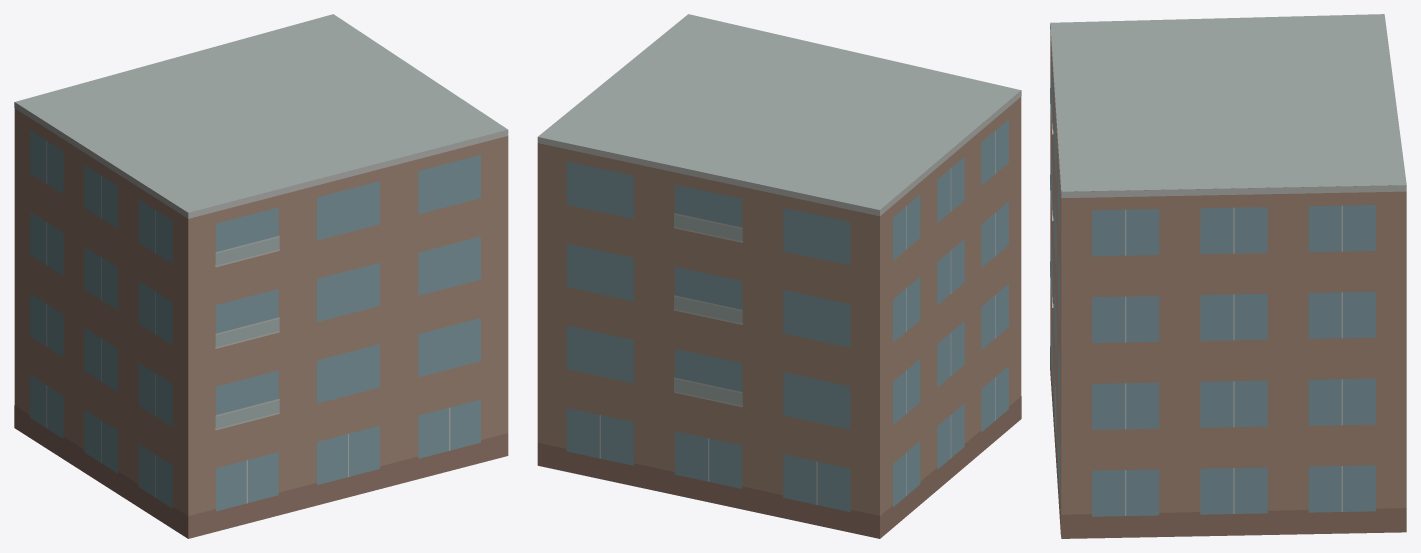
The model's file is survey-upis-32950418.glb.
3 views of the same model, side by side, from view 1: azimuth 30°, elevation 25°; view 2: azimuth 150°, elevation 25°; view 3: azimuth 270°, elevation 25° (orthographic). The views are drawn at different scales.
Parts seen in each view (by area): view 1: survey-upis-32950418.tmp; view 2: survey-upis-32950418.tmp; view 3: survey-upis-32950418.tmp.
Part boxes in pixels (<box>): survey-upis-32950418.tmp: <box>14,14,508,538</box>; survey-upis-32950418.tmp: <box>537,14,1021,538</box>; survey-upis-32950418.tmp: <box>1050,14,1406,538</box>.
Bounding box in the file's own units: 14.39 × 13.1 × 12.21.
